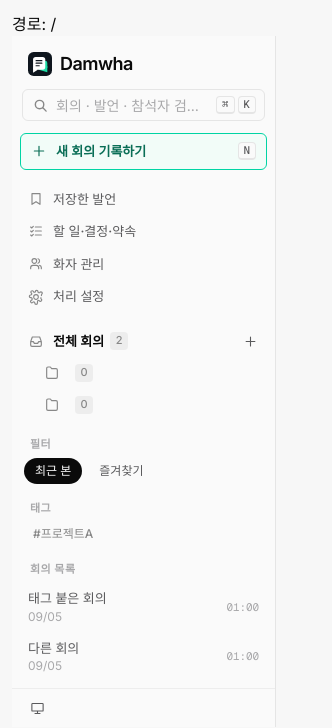
Test: 태그를 누르면 그 태그가 붙은 회의만 남고, 다시 누르면 풀린다
Expected: the text "다른 회의" is shown, 28,640 -> 79,656
Click the button "#프로젝트A".
click(63, 534)  # box 24,523 -> 102,545
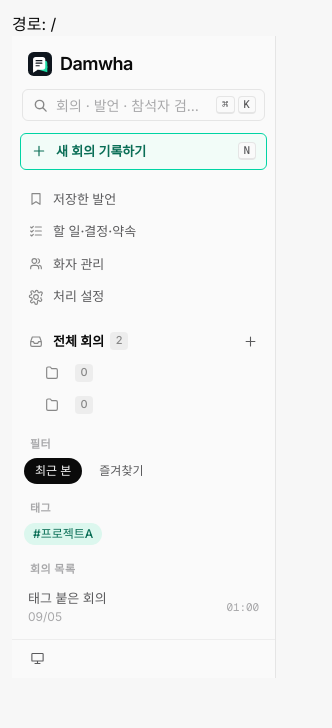
Expected: the text "태그 붙은 회의" is shown, 28,590 -> 107,606
Result: the link "다른 회의" is gone
Click the button "#프로젝트A".
click(63, 534)  # box 24,523 -> 102,545
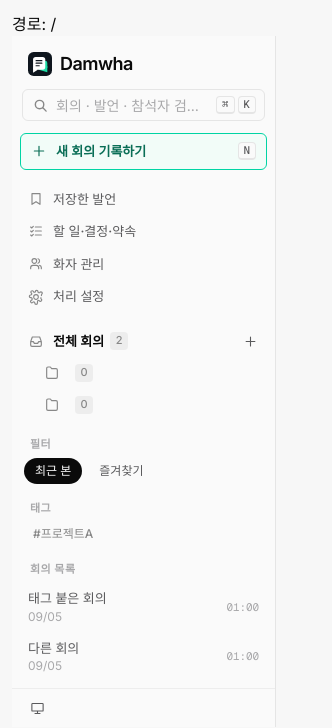
Result: the text "다른 회의" is shown at 28,640 -> 79,656
